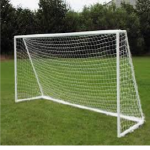goals: (13, 28, 145, 138)
